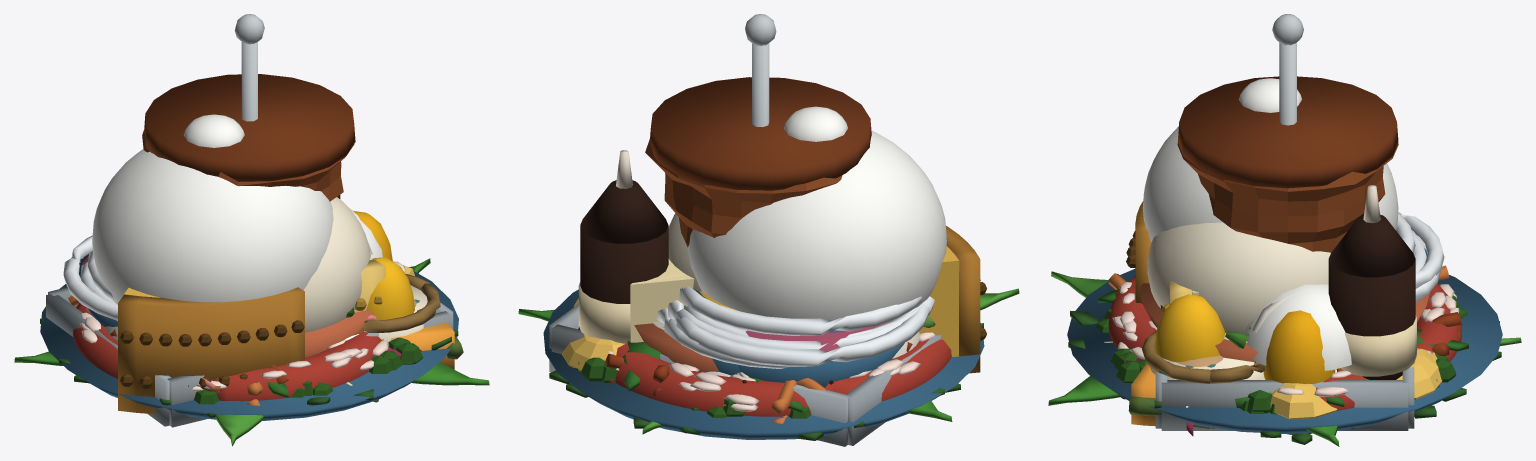
The model's file is ingredients.glb.
3 renders of one model, left to right at view 1: azimuth 30°, elevation 25°; view 2: azimuth 150°, elevation 25°; view 3: azimuth 270°, elevation 25°, orthographic. The views are drawn at different scales.
Parts seen in each view (by area): view 1: bufala, kebab, parmigiano, burrata, salsiccia, fiordilatte, pgiallo, ccacio, cradicchio, stracciatella, czucca, friarielli__layer (+2 smaller); view 2: bufala, kebab, balsamico, salsiccia, cradicchio, parmigiano, fiordilatte, pgiallo, grana, burrata, ccacio, stracciatella (+6 smaller); view 3: kebab, bufala, burrata, balsamico, pgiallo, fiordilatte, salsiccia, parmigiano, ccacio, czucca, friarielli__layer, cradicchio (+5 smaller).
Boxes of the visible parts, <box> form: bufala: <box>40,114,458,420</box>; kebab: <box>142,14,355,391</box>; parmigiano: <box>118,261,414,414</box>; burrata: <box>14,197,489,446</box>; salsiccia: <box>73,261,405,401</box>; fiordilatte: <box>46,287,453,427</box>; pgiallo: <box>88,211,414,320</box>; ccacio: <box>80,251,440,341</box>; cradicchio: <box>63,235,421,359</box>; stracciatella: <box>305,310,373,357</box>; czucca: <box>380,322,463,369</box>; friarielli__layer: <box>290,343,423,397</box>; bufala: <box>543,106,984,439</box>; kebab: <box>645,14,871,247</box>; balsamico: <box>578,150,668,343</box>; salsiccia: <box>577,300,951,416</box>; cradicchio: <box>668,300,929,387</box>; parmigiano: <box>562,226,986,373</box>; fiordilatte: <box>549,304,940,446</box>; pgiallo: <box>679,286,922,335</box>; grana: <box>630,259,694,342</box>; burrata: <box>518,213,1019,434</box>; ccacio: <box>674,307,916,349</box>; stracciatella: <box>634,321,719,372</box>; kebab: <box>1177,14,1398,252</box>; bufala: <box>1067,78,1502,433</box>; burrata: <box>1048,222,1521,446</box>; balsamico: <box>1328,185,1416,379</box>; pgiallo: <box>1154,213,1415,383</box>; fiordilatte: <box>1155,367,1414,430</box>; salsiccia: <box>1108,277,1461,410</box>; parmigiano: <box>1126,201,1442,419</box>; ccacio: <box>1142,230,1426,428</box>; czucca: <box>1128,235,1440,426</box>; friarielli__layer: <box>1096,308,1456,428</box>; cradicchio: <box>1125,212,1444,436</box>.
Bounding box in the file's own units: 0.6834 × 0.522 × 0.6517.
